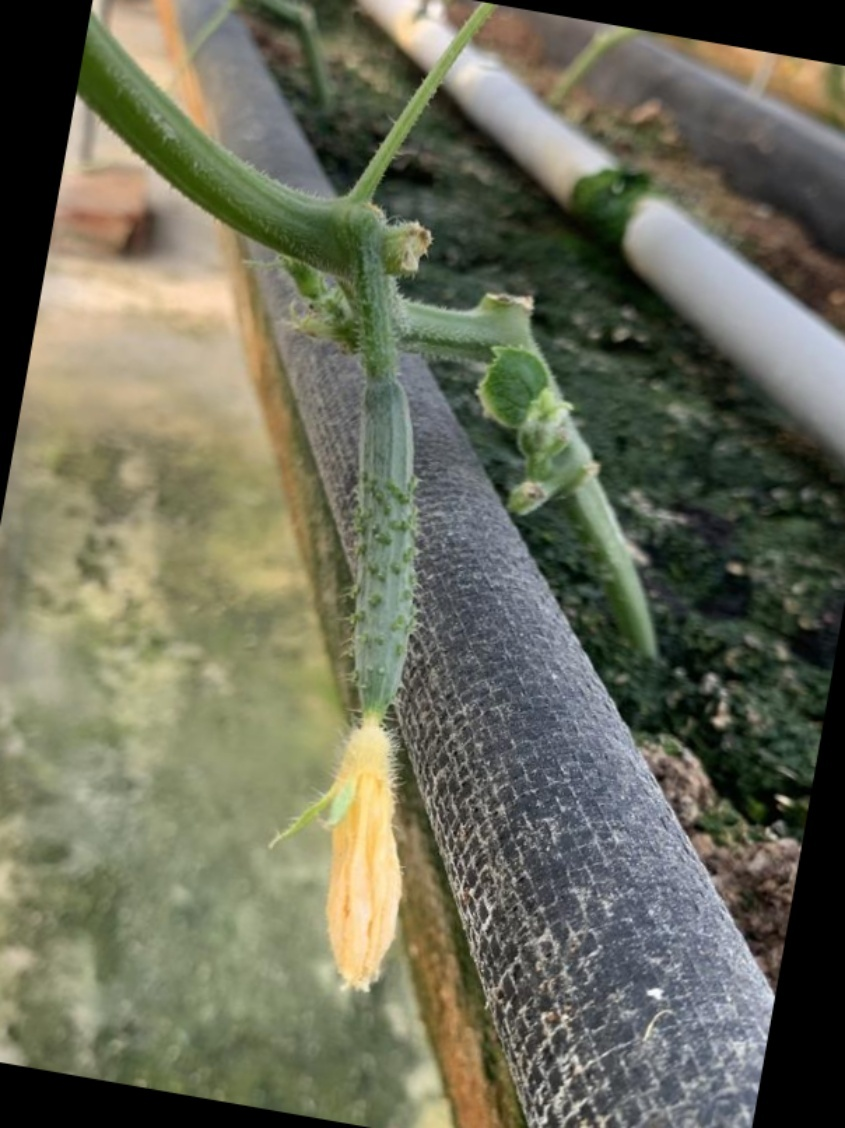bear: (234, 321, 473, 1021)
